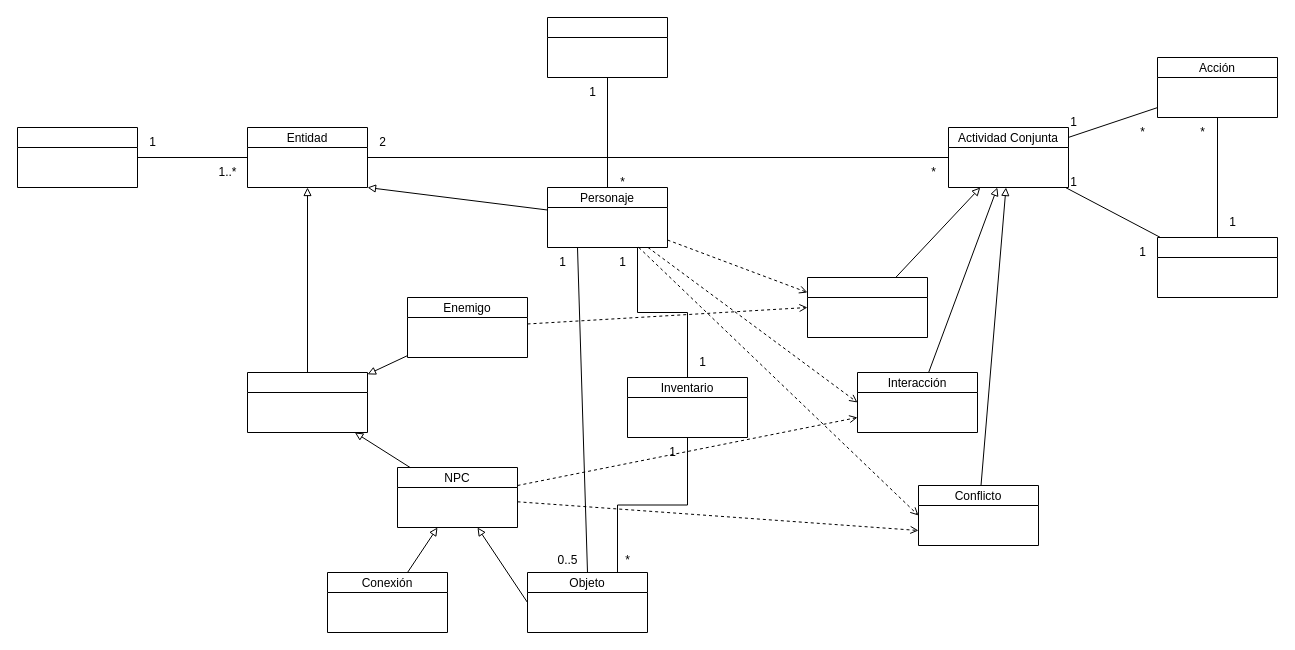
This 1295x650 diagram has some shape labels left out. The box of each missing label's shape, as (x1, y1, x2, y2) in pixels:
Combate: (806, 276, 928, 338)
Coordinador: (1156, 236, 1278, 298)
Estancia: (16, 126, 138, 188)
No Jugable: (246, 372, 368, 432)
Usuario: (546, 16, 668, 78)
